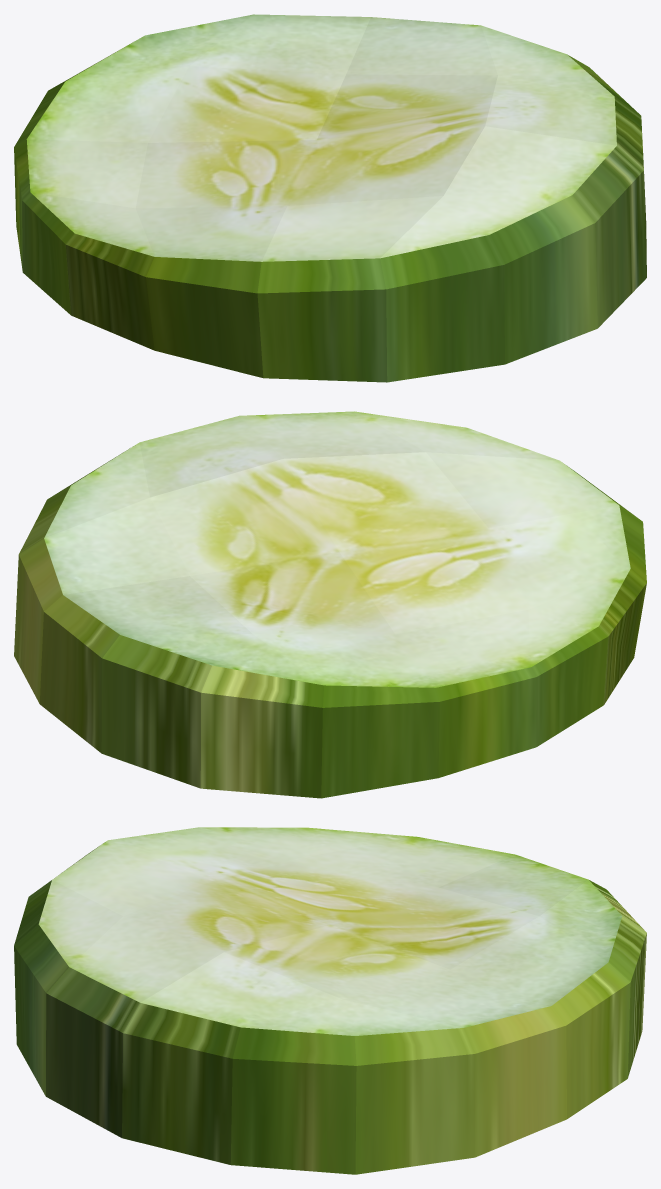
File: CucumberSliced.fbx
3 views of the same model, one above another, from view 1: azimuth 30°, elevation 25°; view 2: azimuth 150°, elevation 25°; view 3: azimuth 270°, elevation 25° (orthographic). The views are drawn at different scales.
Parts seen in each view (by area): view 1: CucumberSliced; view 2: CucumberSliced; view 3: CucumberSliced.
Part boxes in pixels (x1,y1,x2,y2): CucumberSliced: [14, 14, 646, 382]; CucumberSliced: [14, 411, 646, 798]; CucumberSliced: [14, 827, 646, 1174].
Size of the model in its own units: 166 by 44.2 by 169.
Materials: 2 (2 with a texture image).
